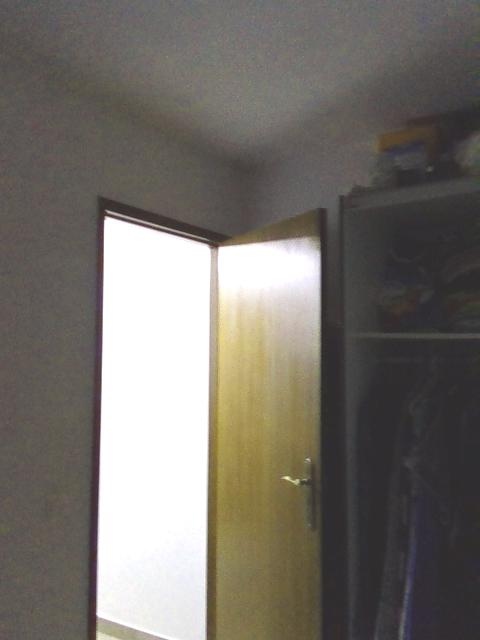open_door: (87, 193, 219, 639)
